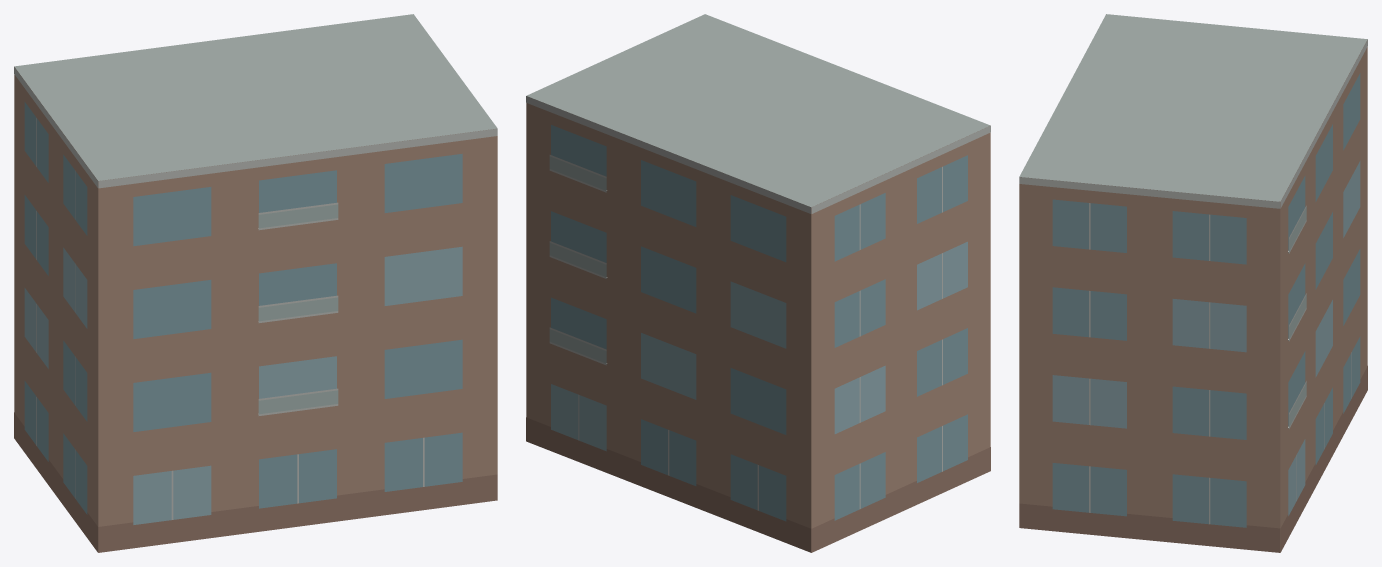
Rendered from residential-f3cd7544-e464-43bc-9f54-8b742162de91.glb.
The picture shows the model from 3 angles, left to right: view 1: azimuth 30°, elevation 25°; view 2: azimuth 150°, elevation 25°; view 3: azimuth 270°, elevation 25°; orthographic projection. The views are drawn at different scales.
Visible parts, largest first — view 1: residential-f3cd7544-e464-43bc-9f54-8b742162de91.tmp; view 2: residential-f3cd7544-e464-43bc-9f54-8b742162de91.tmp; view 3: residential-f3cd7544-e464-43bc-9f54-8b742162de91.tmp.
Boxes of the visible parts, <box> form: residential-f3cd7544-e464-43bc-9f54-8b742162de91.tmp: <box>14,14,497,552</box>; residential-f3cd7544-e464-43bc-9f54-8b742162de91.tmp: <box>526,14,990,552</box>; residential-f3cd7544-e464-43bc-9f54-8b742162de91.tmp: <box>1019,14,1367,552</box>.
Bounding box in the file's own units: 14.01 × 12.2 × 10.99.
